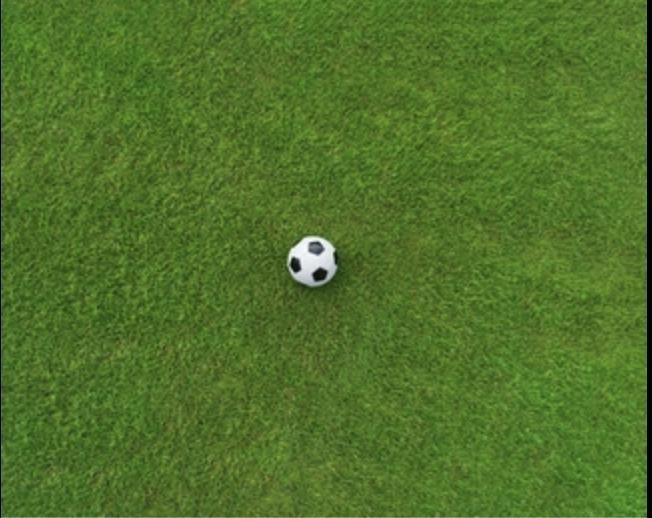Sports-Ball: (290, 237, 337, 288)
